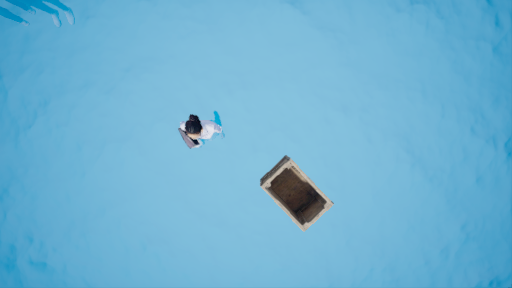person: (173, 108, 233, 155)
